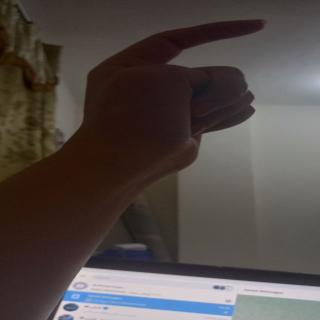RAA: (67, 9, 298, 188)
